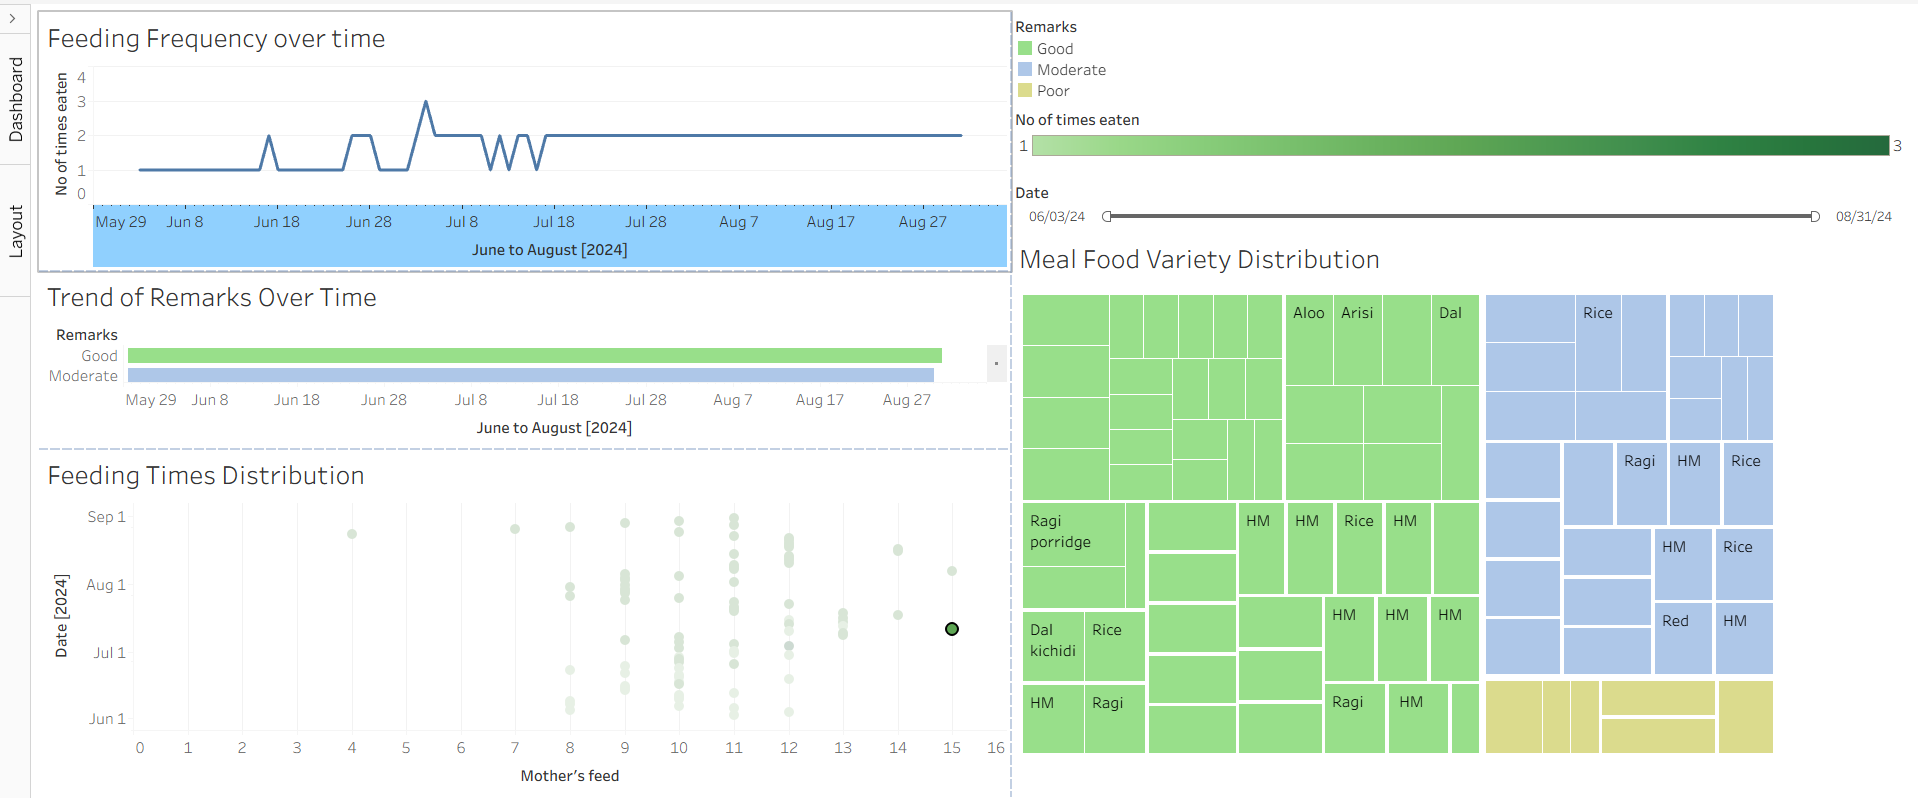

The page's visual inventory and layout, read from the dashboard file:
{"tool":"tableau","page":{"name":"Daily Feeding Summary Dashboard","canvas":[1000,1000],"units":"permille","ordinal":0},"visuals":[{"type":"worksheet","title":"Feeding Frequency over time","mark":"Line","rows":["No of times eaten"],"cols":["Date"],"box":[4.8,10,431.5,323.3]},{"type":"dashboard-object","box":[412.2,10,14.5,30]},{"type":"legend","title":"Trend of Remarks Over Time","param":"[federated.0g5pmtl0musi2l1d053tz0pze1ej].[none:Remarks:nk]","box":[436.3,10,558.8,116.1]},{"type":"legend","title":"Feeding Times Distribution","param":"[federated.0g5pmtl0musi2l1d053tz0pze1ej].[sum:No of times eaten:qk]","box":[436.3,126.1,558.8,91.1]},{"type":"filter","title":"Feeding Frequency over time","param":"[federated.0g5pmtl0musi2l1d053tz0pze1ej].[none:Date:qk]","box":[436.3,217.2,558.8,68.7]},{"type":"worksheet","title":"Meal Food Variety Distribution","mark":"Automatic","box":[436.3,285.9,558.8,664.2]},{"type":"worksheet","title":"Trend of Remarks Over Time","mark":"Bar","rows":["Remarks"],"cols":["Date"],"box":[4.8,333.3,431.5,222.2]},{"type":"worksheet","title":"Feeding Times Distribution","mark":"Circle","rows":["Date"],"cols":["Mother's feed"],"box":[4.8,555.6,431.5,434.4]}]}

Visuals, with their boxes on the dashboard's canvas, which has no fixed pixel size, in thousandths of its width and height (x1, y1, x2, y2). These are canvas units, not pixel positions in the 1918x798 screenshot, which may show the page scaled, cropped or inside an application window:
"Feeding Frequency over time" worksheet (Line marks): 5:10:436:333
dashboard-object: 412:10:427:40
"Trend of Remarks Over Time" legend: 436:10:995:126
"Feeding Times Distribution" legend: 436:126:995:217
"Feeding Frequency over time" filter: 436:217:995:286
"Meal Food Variety Distribution" worksheet: 436:286:995:950
"Trend of Remarks Over Time" worksheet (Bar marks): 5:333:436:556
"Feeding Times Distribution" worksheet (Circle marks): 5:556:436:990
